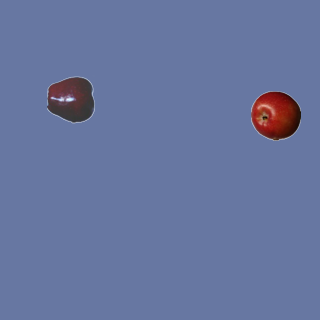Apple Braeburn: (250, 90, 300, 140)
Apple Red Delicious: (46, 74, 96, 124)
